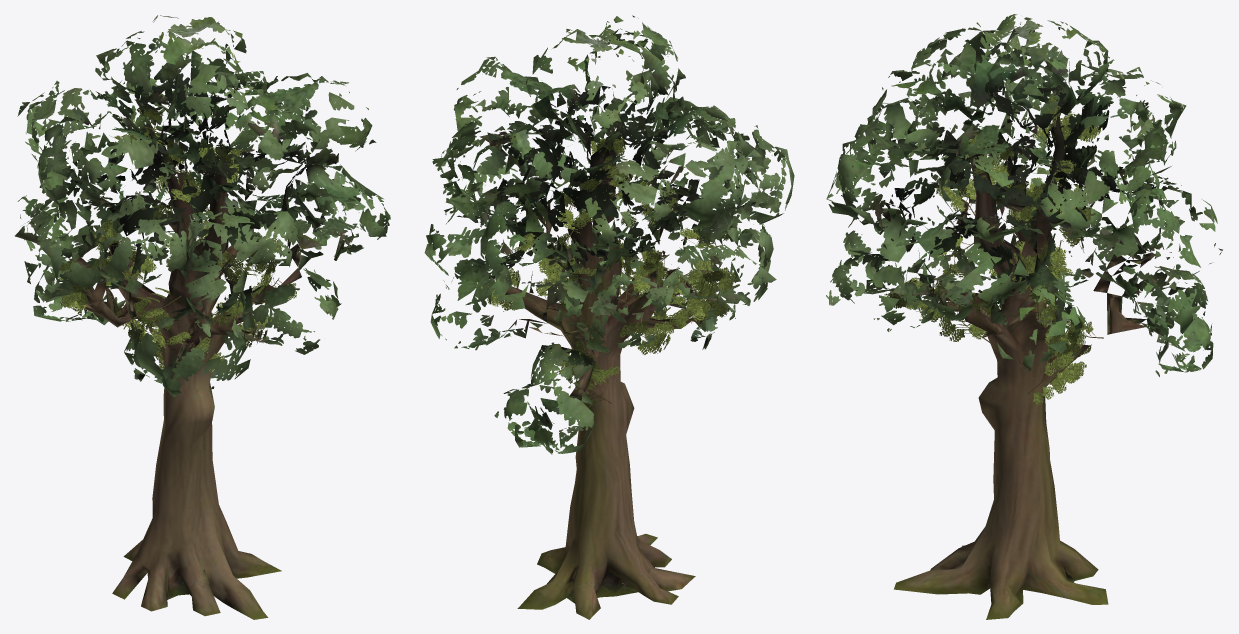
The model's file is tree-3106-near.glb.
3 views of the same model, side by side, from view 1: azimuth 30°, elevation 25°; view 2: azimuth 150°, elevation 25°; view 3: azimuth 270°, elevation 25° (orthographic).
Visible parts, largest first — view 1: Foliage, Wood; view 2: Foliage, Wood; view 3: Foliage, Wood.
Boxes of the visible parts, x1,y1,x2,y2 form: Foliage: [15, 15, 390, 397]; Wood: [70, 122, 336, 619]; Foliage: [424, 15, 794, 454]; Wood: [479, 132, 715, 619]; Foliage: [826, 14, 1222, 405]; Wood: [894, 107, 1155, 619].
Size of the model in its own units: 7.52 by 11.75 by 7.57.
2 materials, 2 textured.
